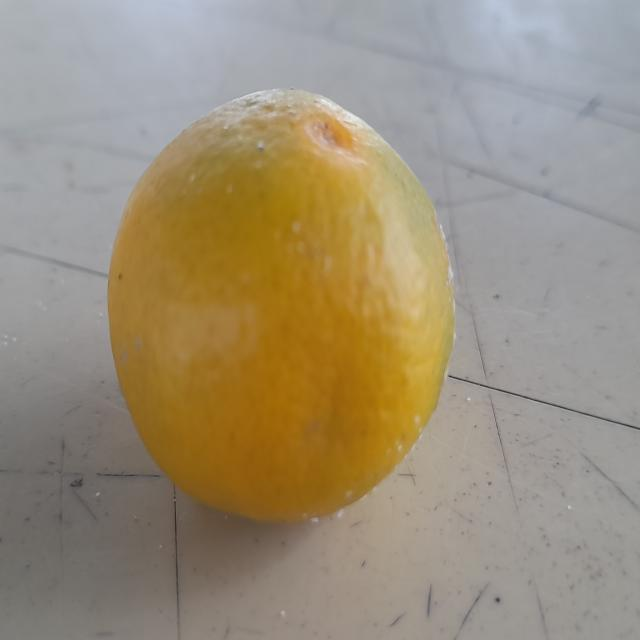greening: (94, 84, 454, 534)
